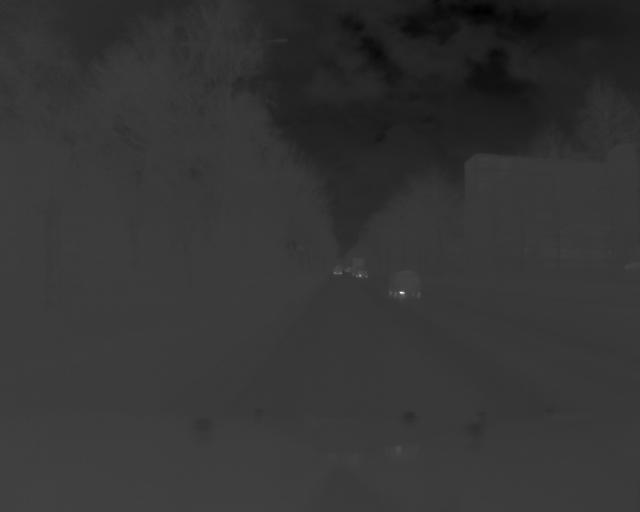car: (388, 267, 431, 303), (354, 267, 373, 282), (331, 261, 345, 277)
